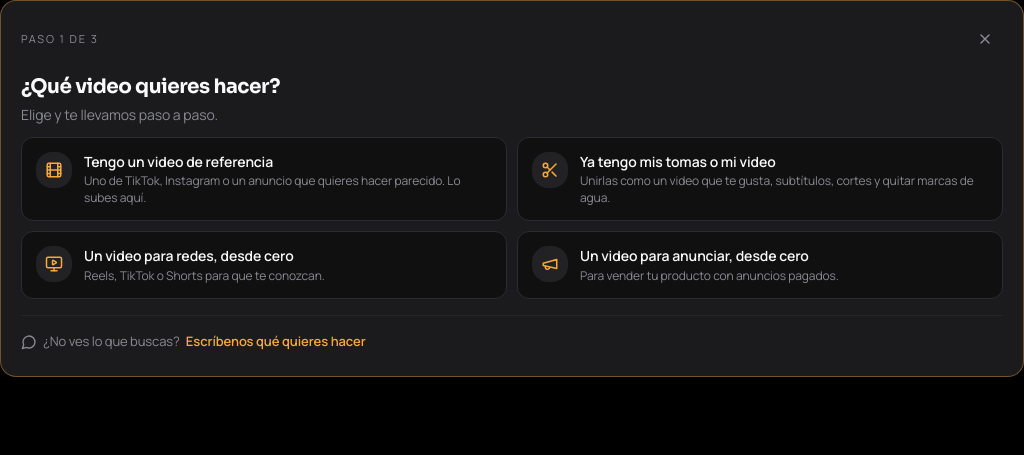
it: Guía «¿Qué video quieres hacer?» › solo su texto: «texto animado» lleva a Motion graphics con el texto puesto
Later steps or results of the test are not shown.
Click the button "Un video para redes".
click(264, 265)  # box [21,231,507,299]
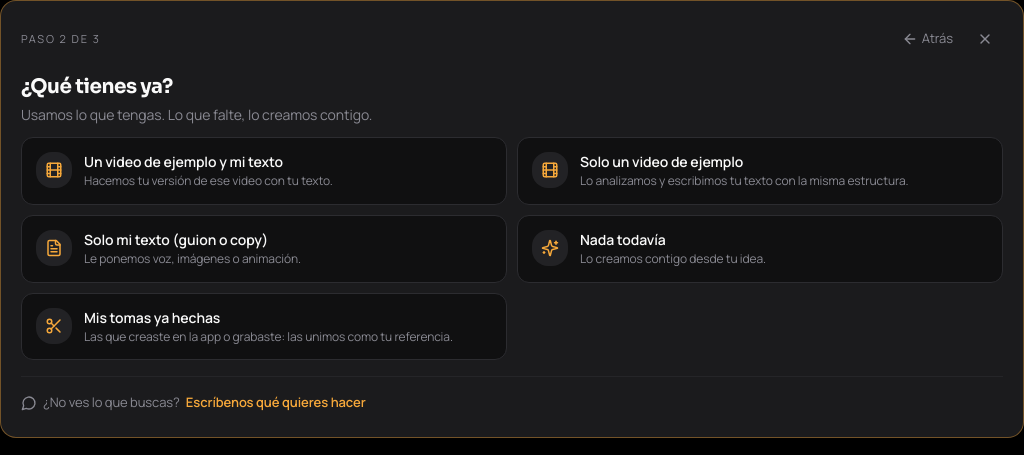
Click the button "Solo mi texto".
click(264, 249)  # box [21,215,507,283]
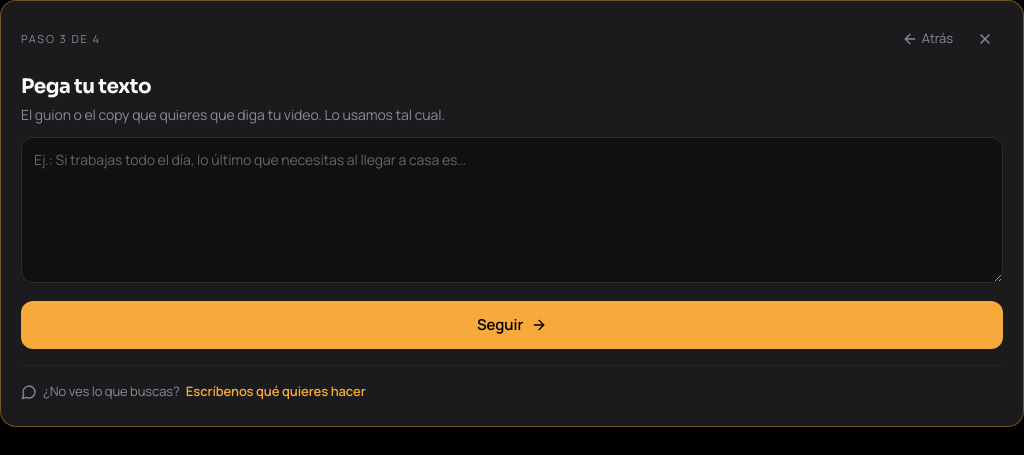
Replace the text in the text box named "Tu texto" with "Si trabajas todo el día, lo último que necesitas al llegar a casa es empezar otra jornada en la cocina." at (512, 210), box [21,137,1003,283]
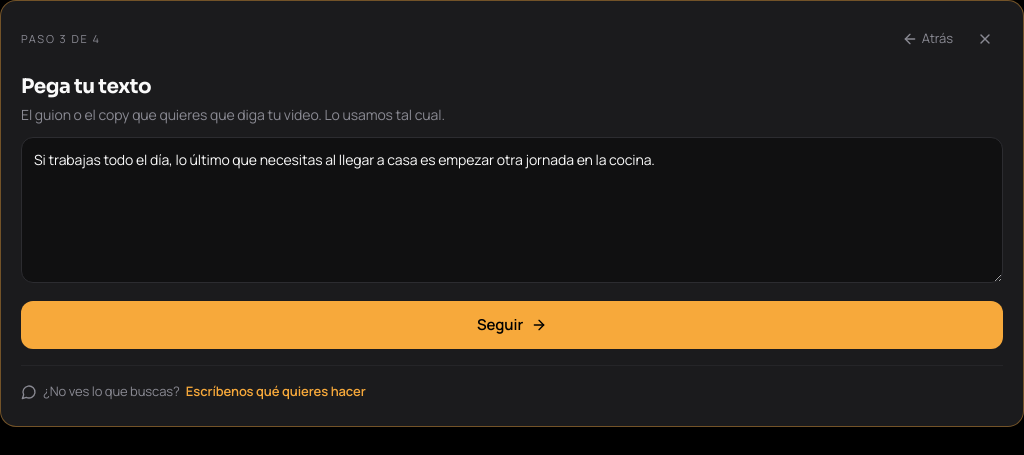
Click the button "Seguir".
click(512, 325)  # box [21,301,1003,349]
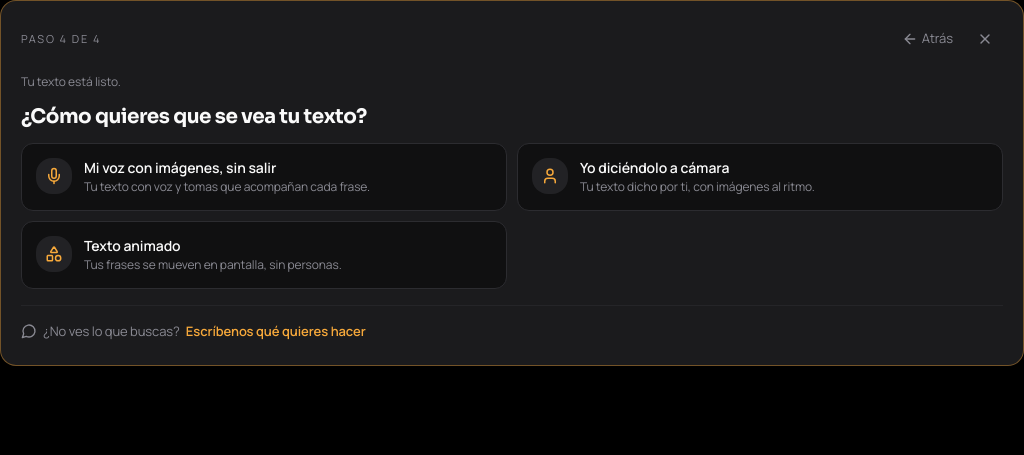
Result: the heading "¿Cómo quieres que se vea tu texto?" is shown at [21,104,367,129]
